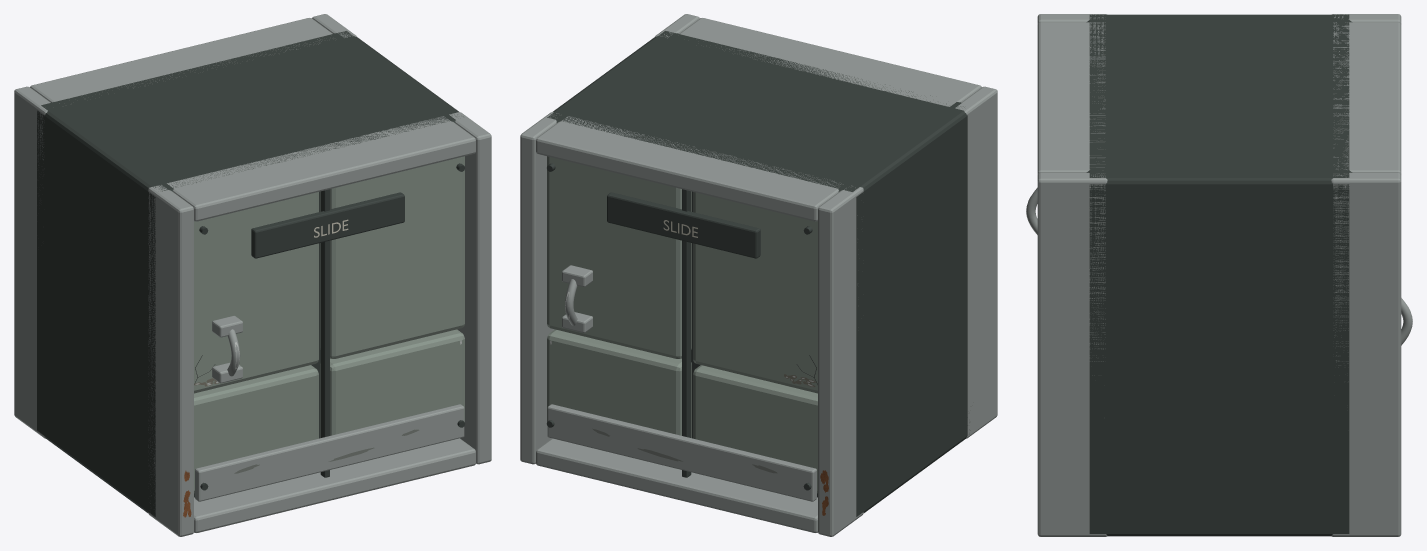
File: door_slide.glb
3 renders of one model, left to right at view 1: azimuth 30°, elevation 25°; view 2: azimuth 150°, elevation 25°; view 3: azimuth 270°, elevation 25°, orthographic. The views are drawn at different scales.
Visible parts, largest first — view 1: door_slide / hardware_dark_steel, door_slide / hardware_satin_steel, door_slide / hardware_sage_enamel; view 2: door_slide / hardware_dark_steel, door_slide / hardware_satin_steel, door_slide / hardware_sage_enamel; view 3: door_slide / hardware_dark_steel, door_slide / hardware_satin_steel.
Boxes of the visible parts, x1,y1,x2,y2 form: door_slide / hardware_dark_steel: (37, 31, 465, 516); door_slide / hardware_satin_steel: (14, 14, 491, 536); door_slide / hardware_sage_enamel: (194, 156, 464, 493); door_slide / hardware_dark_steel: (546, 31, 970, 516); door_slide / hardware_satin_steel: (520, 14, 997, 536); door_slide / hardware_sage_enamel: (547, 156, 817, 493); door_slide / hardware_dark_steel: (1086, 14, 1352, 536); door_slide / hardware_satin_steel: (1026, 14, 1412, 536).
Size of the model in its own units: 1 by 1 by 0.978.
Materials: 9 (1 with a texture image).
